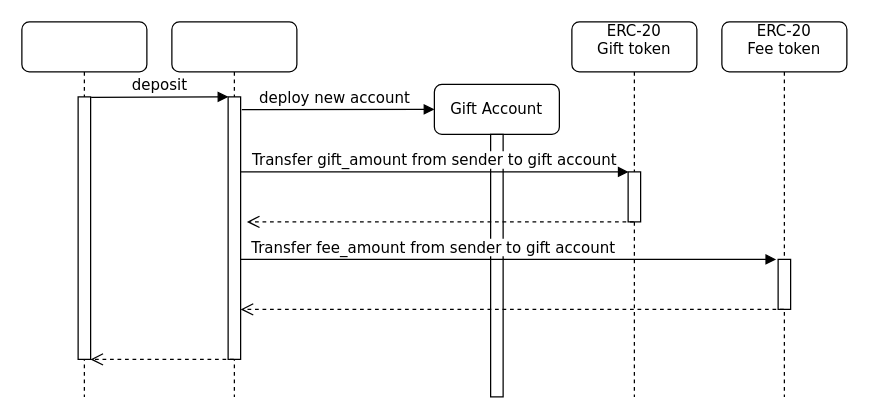
This 869x419 diagram has some shape labels left out. The shapes that lost their labels are listed below. From the top down, each one's box as (x1, y1, x2, y2) in pixels, then its label:
(21, 21, 147, 397): Sender
(171, 21, 297, 397): Factory
